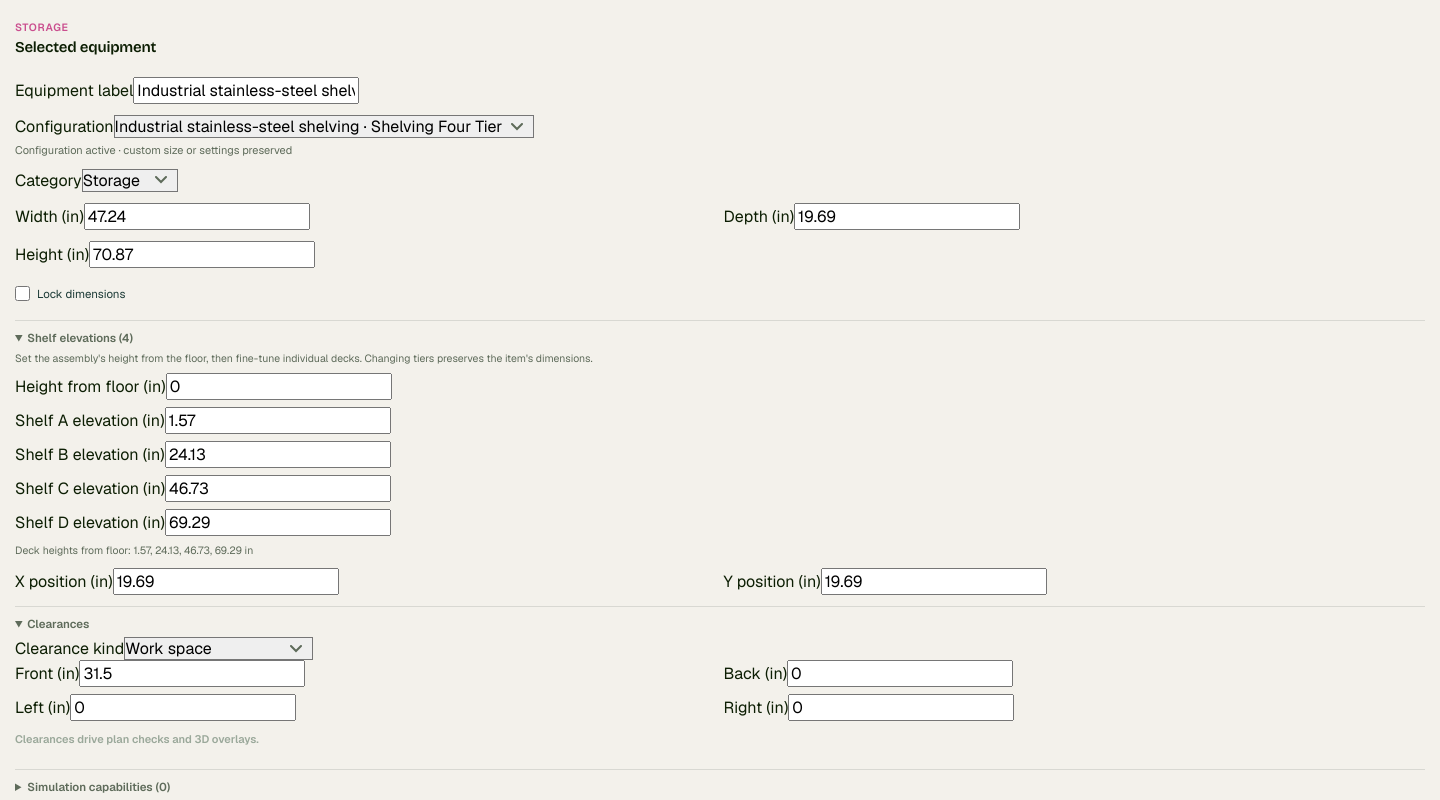
Test: allows every shelf tier elevation to be customized without resizing the rack
Step 1. Replace the text in the field labelled "Shelf A elevation (in)" with "12" → (278, 420), box [164,406,390,434]
Then press Enter
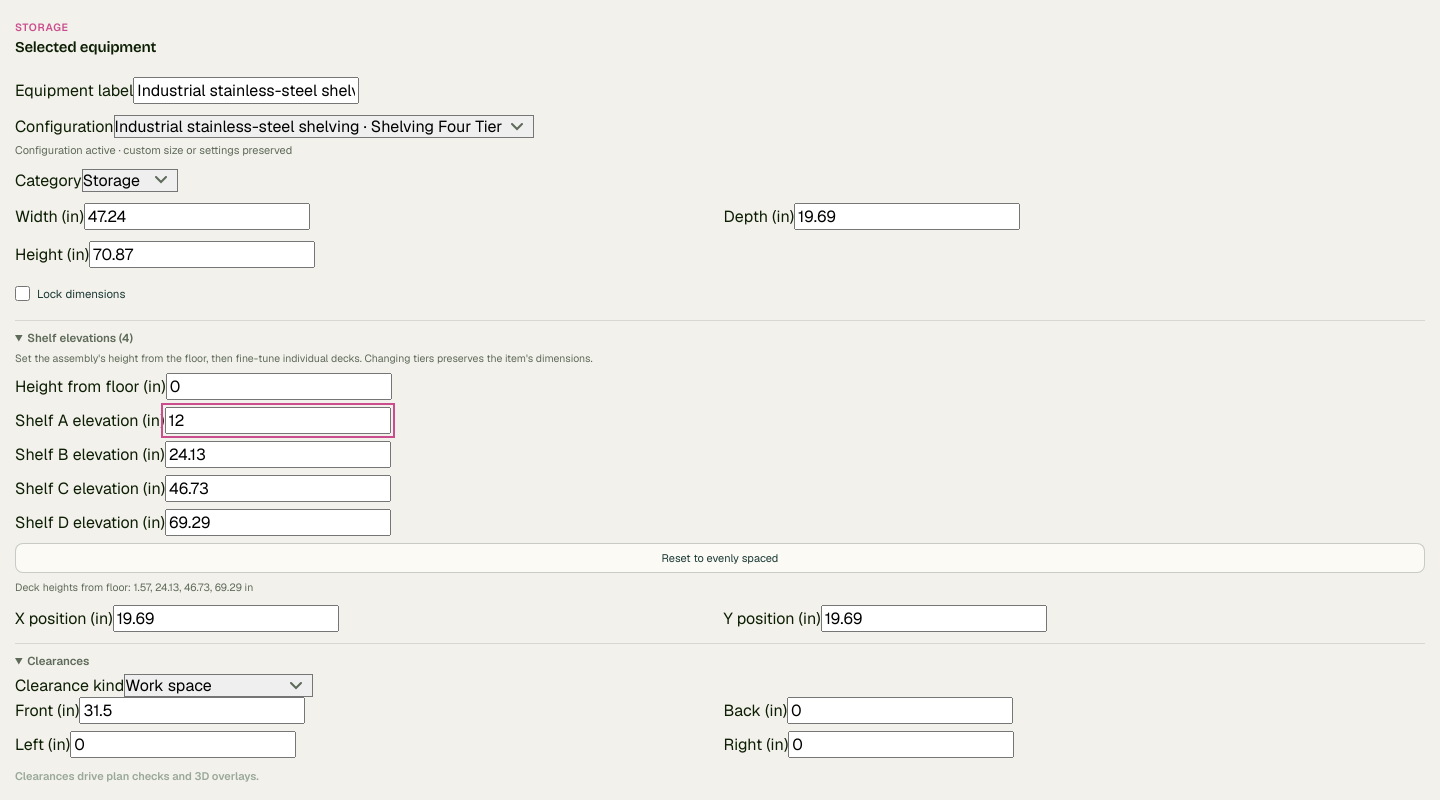
Expected: the field labelled "Shelf D elevation (in)" is shown, [165,508,391,536]
Step 2. Select "Industrial stainless-steel shelving · Shelving Six Tier" in the dropdown named "Equipment configuration" → (324, 126), box [114,115,534,138]
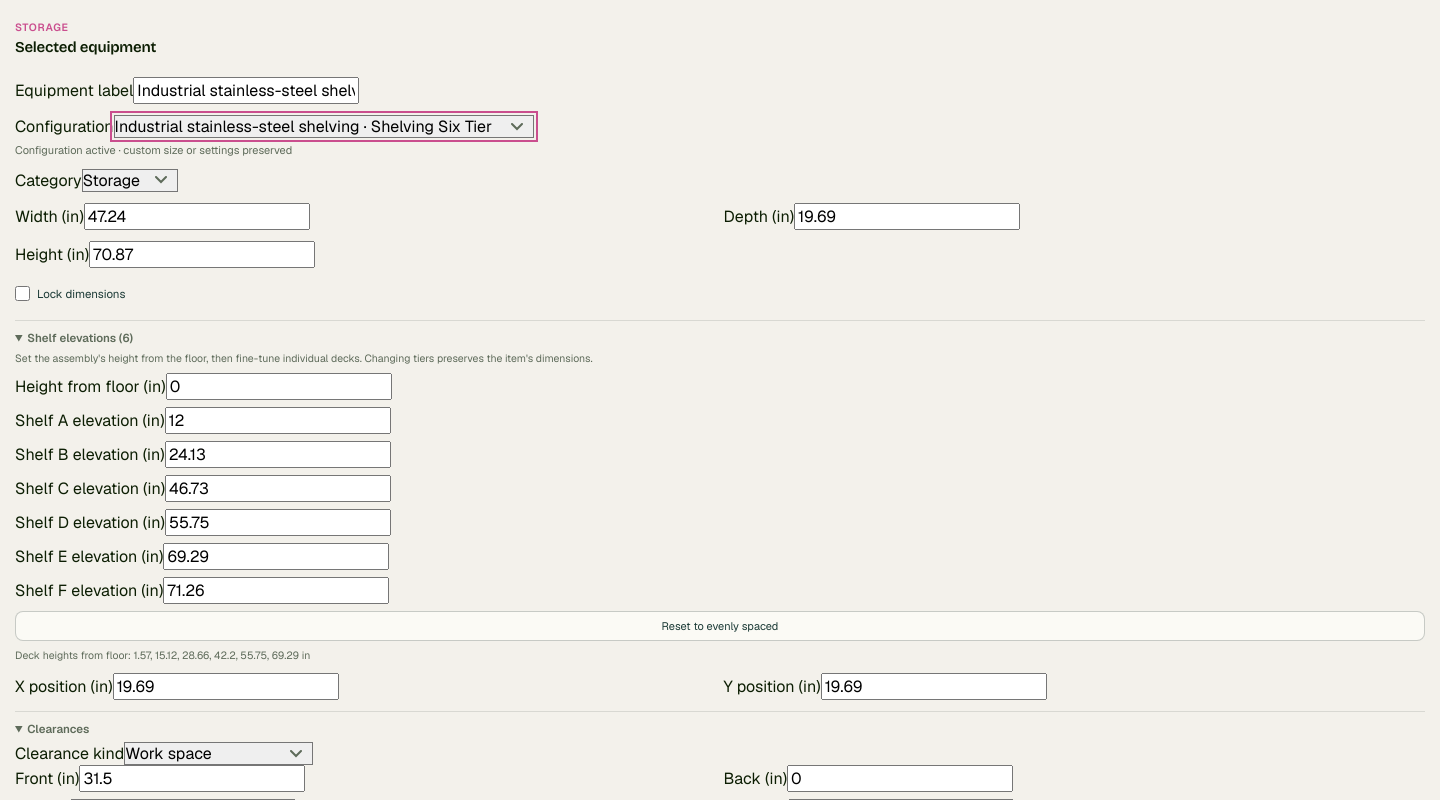
Expected: the field labelled "Shelf F elevation (in)" is shown, [163,576,389,604]
